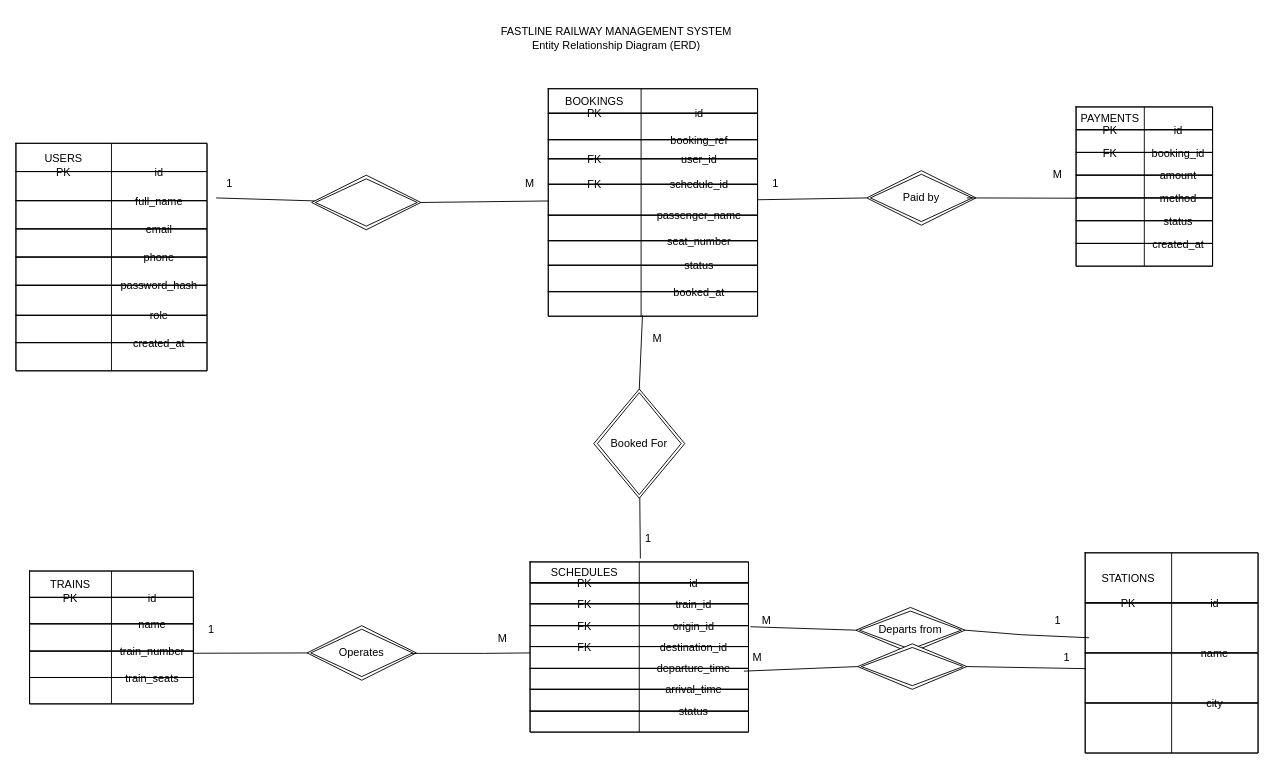
This 1274x769 diagram has some shape labels left out. The centre of each missing label's shape, as x and y in pixels:
Arrives at: [912,666]
Makes: [366,202]
